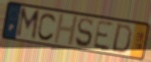C: (37, 11, 58, 42)
D: (110, 23, 134, 55)
E: (92, 19, 115, 52)
H: (52, 14, 79, 47)
M: (14, 7, 41, 42)
S: (74, 17, 94, 49)
